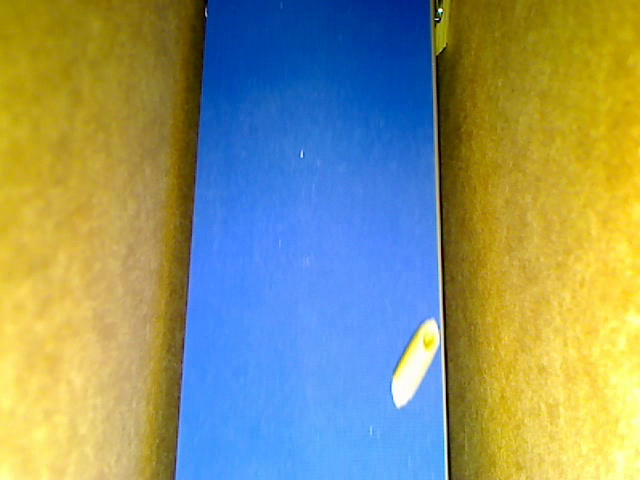penne: (389, 313, 442, 413), (435, 1, 448, 61)
